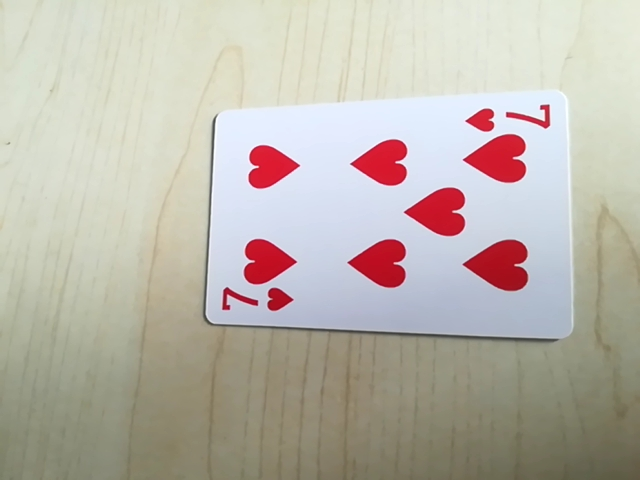hx 7: (461, 95, 553, 134), (216, 287, 296, 322)
